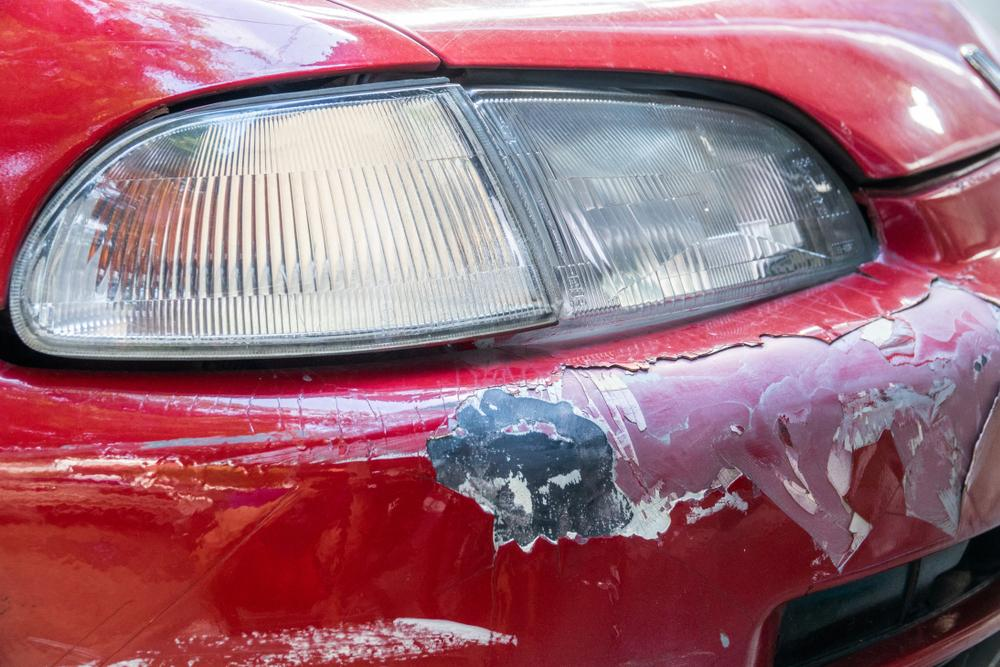scratch: (417, 272, 1000, 568), (91, 619, 520, 667)
